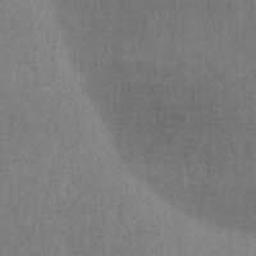Oil spot: (51, 0, 256, 241)
